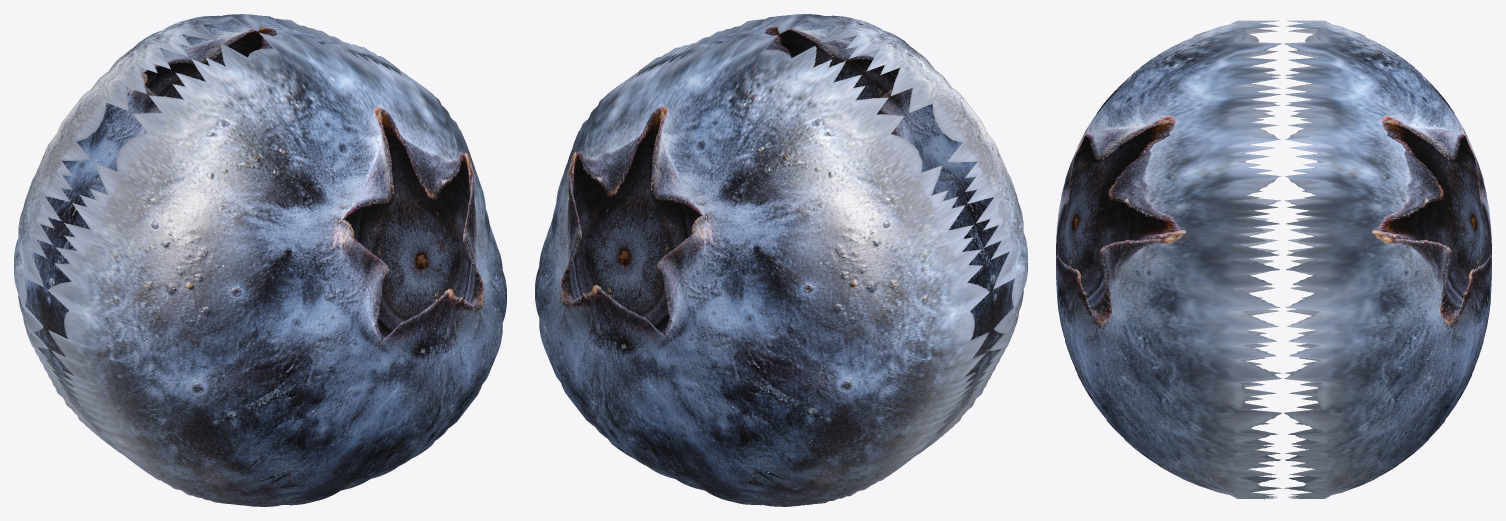
Rendered from arandanos.glb.
3 views of the same model, side by side, from view 1: azimuth 30°, elevation 25°; view 2: azimuth 150°, elevation 25°; view 3: azimuth 270°, elevation 25° (orthographic). The views are drawn at different scales.
Parts seen in each view (by area): view 1: arandanos; view 2: arandanos; view 3: arandanos.
Boxes of the visible parts, left/top/right/bottom form: arandanos: left=14, top=14, right=506, bottom=506; arandanos: left=535, top=14, right=1027, bottom=506; arandanos: left=1056, top=20, right=1491, bottom=499.
Size of the model in its own units: 1.96 by 1.98 by 1.8.
Materials: 1 (1 with a texture image).
